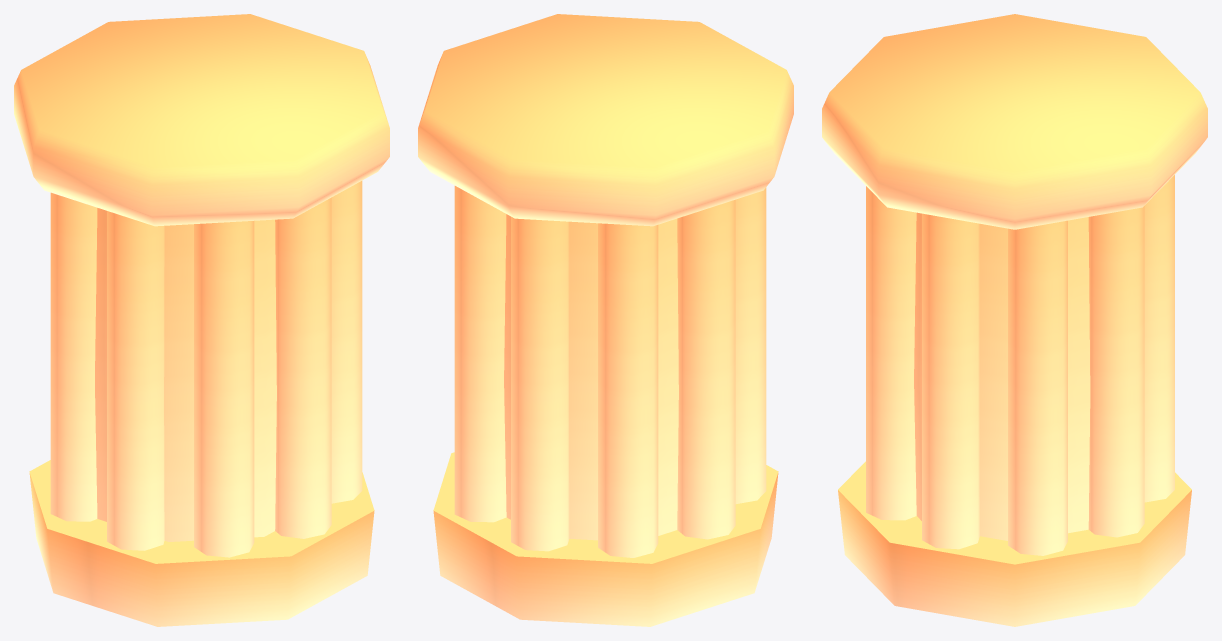
The model's file is wood_grip_103_004.glb.
3 views of the same model, side by side, from view 1: azimuth 30°, elevation 25°; view 2: azimuth 150°, elevation 25°; view 3: azimuth 270°, elevation 25° (orthographic).
Parts seen in each view (by area): view 1: wood_grip_103.004; view 2: wood_grip_103.004; view 3: wood_grip_103.004.
Part boxes in pixels (x1,y1,x2,y2): wood_grip_103.004: (14,14,389,626); wood_grip_103.004: (418,14,793,626); wood_grip_103.004: (822,14,1207,626).
Bounding box in the file's own units: 2.5 × 3.31 × 2.5.
1 material, 1 textured.
